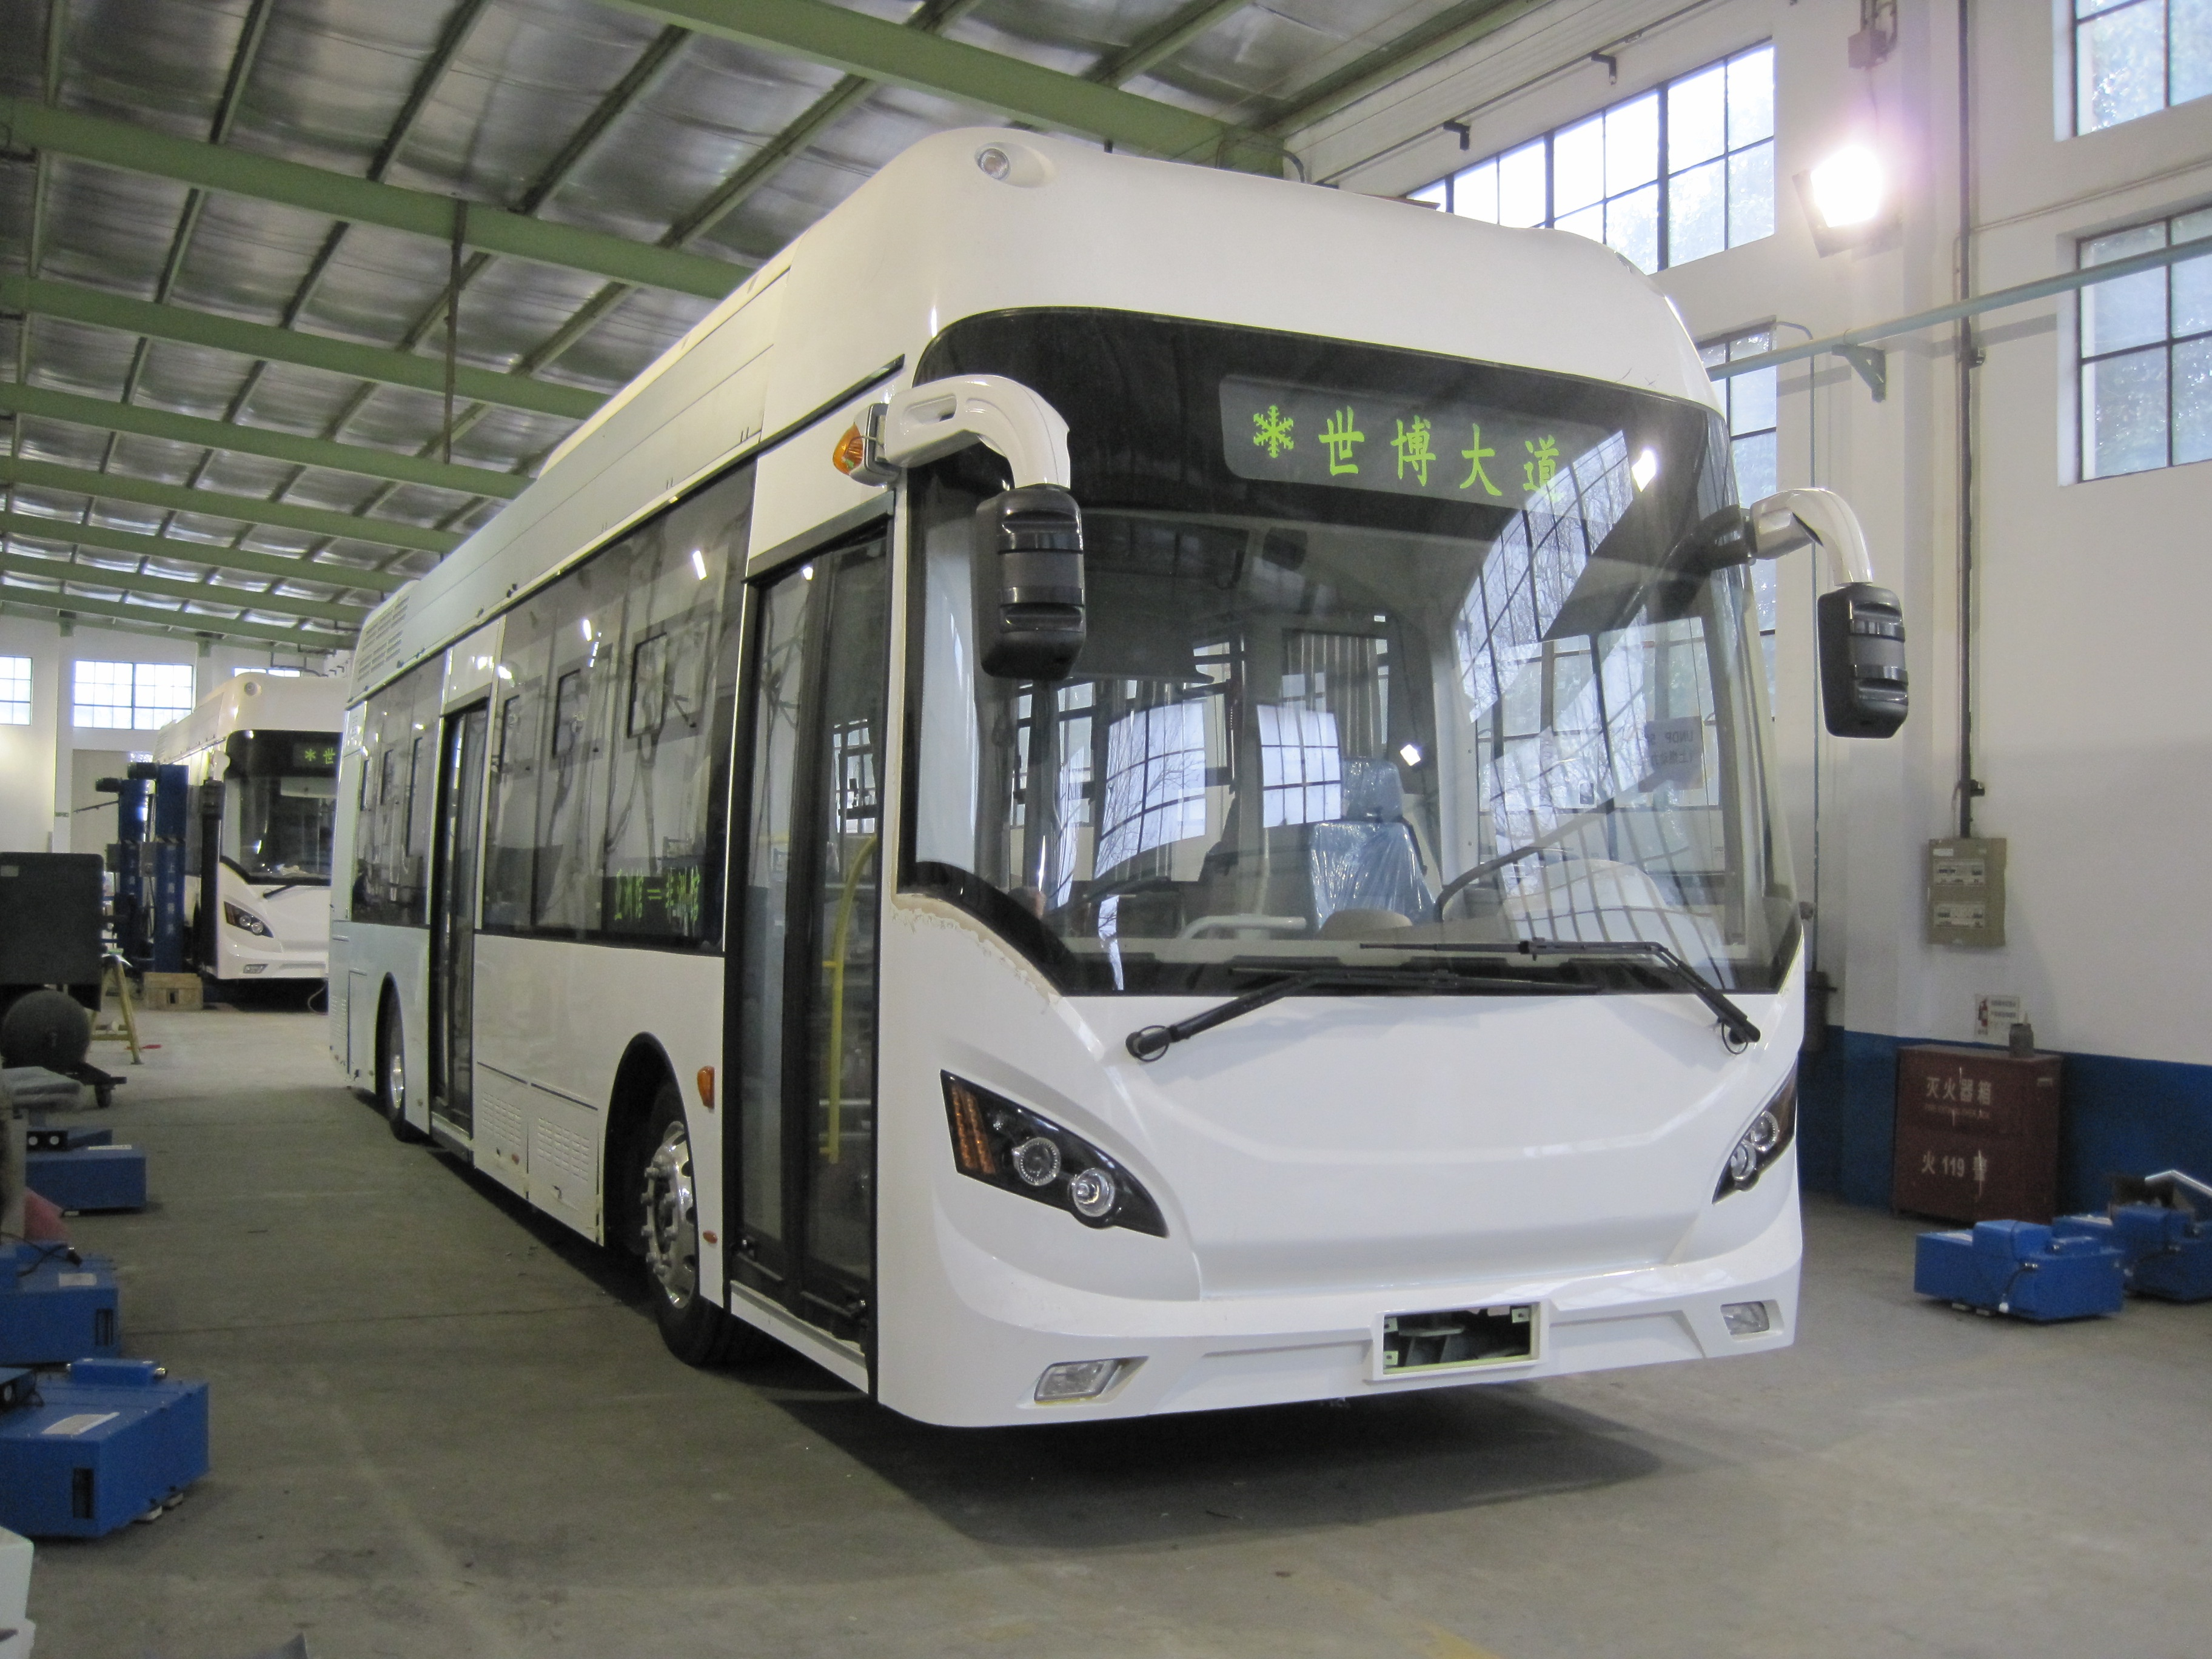bus: (310, 134, 1834, 1473)
